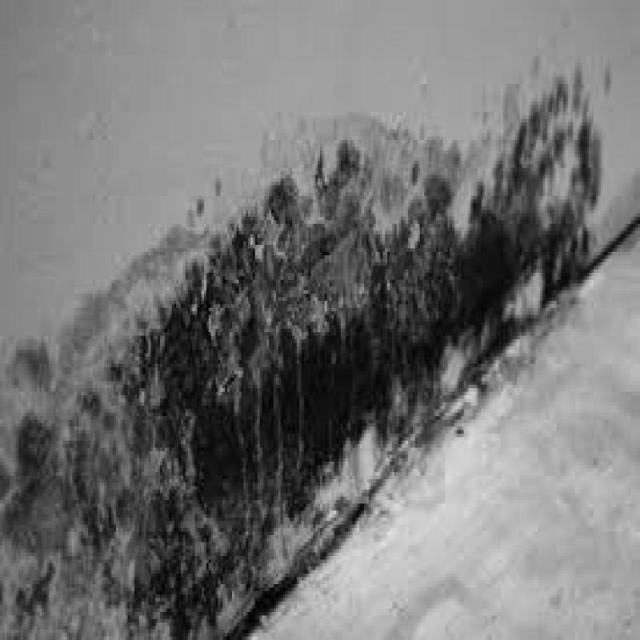stain marks: (3, 39, 630, 640)
